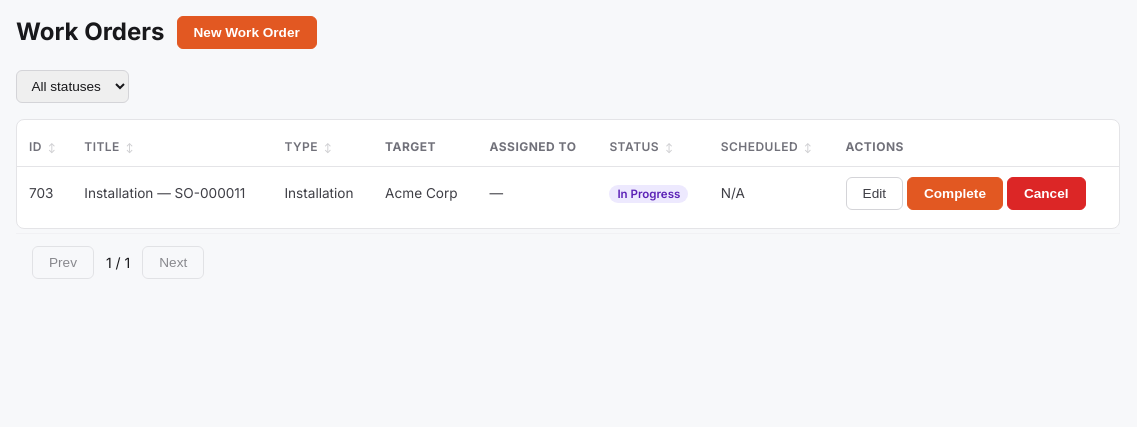
Scenario: WorkOrders — legal documents panel › does not request or expose document metadata without signed_documents.view
Click the text "Installation — SO-000011": (172, 193) [72, 166, 272, 220]
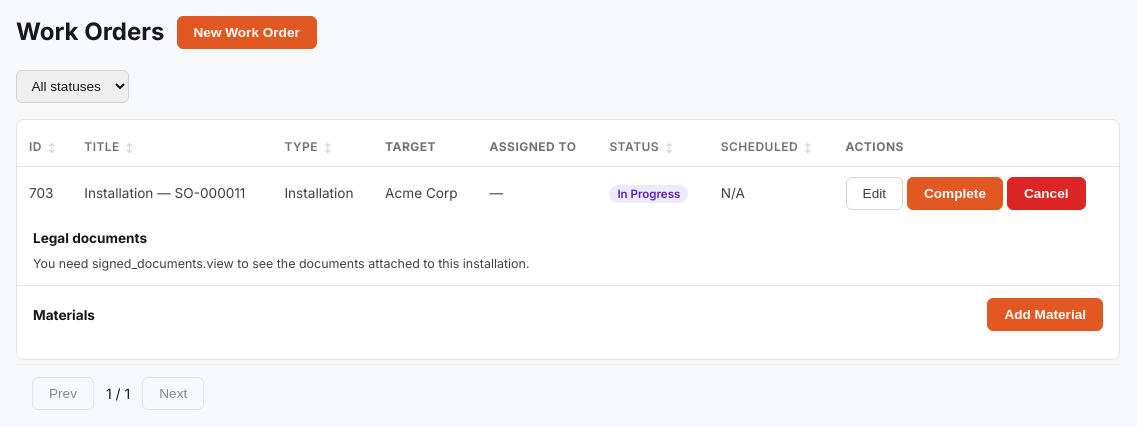
Expected: the text "need signed_documents.view" is shown, [33, 256, 530, 271]
